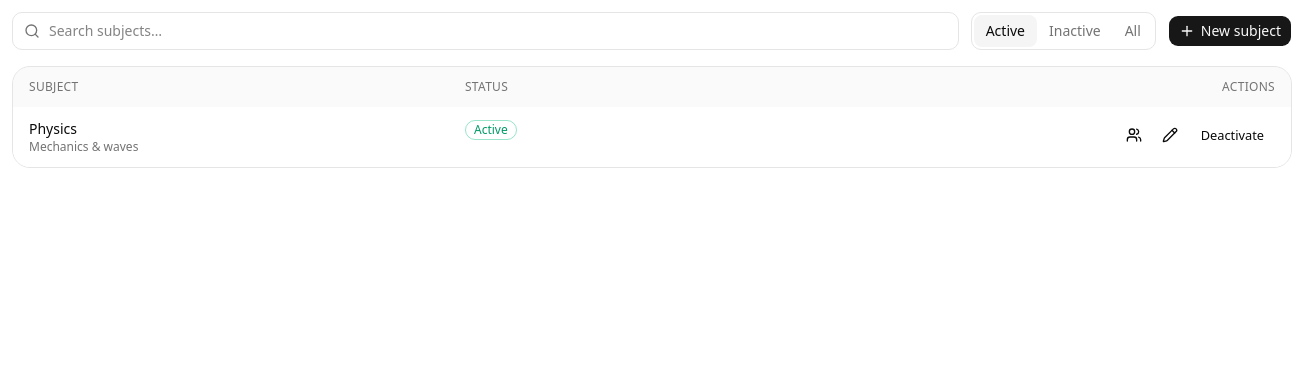
it: SubjectManager — create › gates the submit until name has >= 2 chars
Click the button "New subject" at (1230, 31), box [1168,15,1292,47]
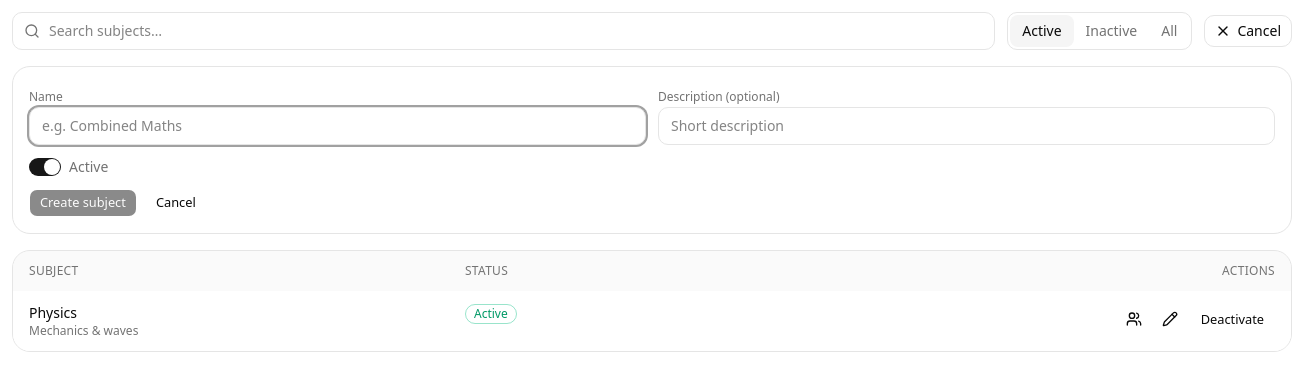
Result: the button "Create subject" is disabled at [29,189,137,217]
Type "C" into the field labelled "Name" at (338, 126), box [29,107,646,145]
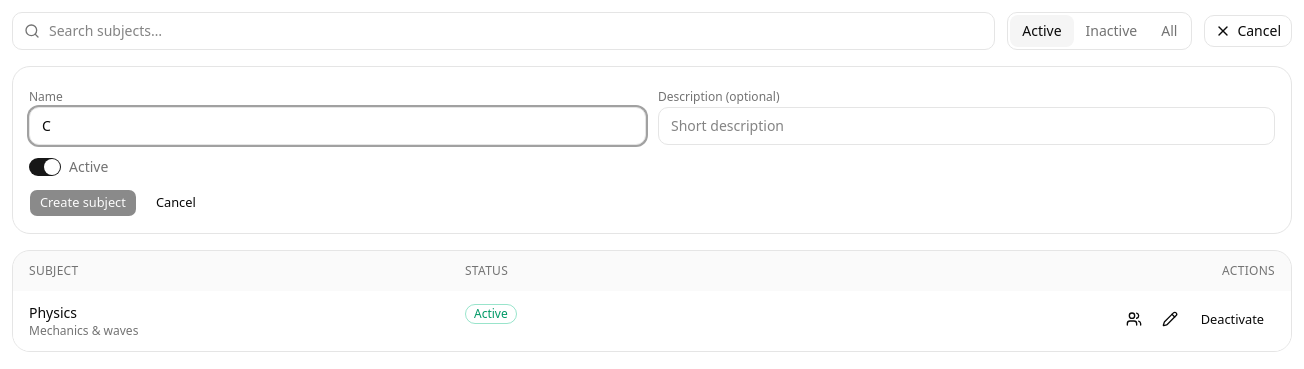
Result: the button "Create subject" is disabled at [29,189,137,217]
Type "hemistry" into the field labelled "Name" at (338, 126), box [29,107,646,145]
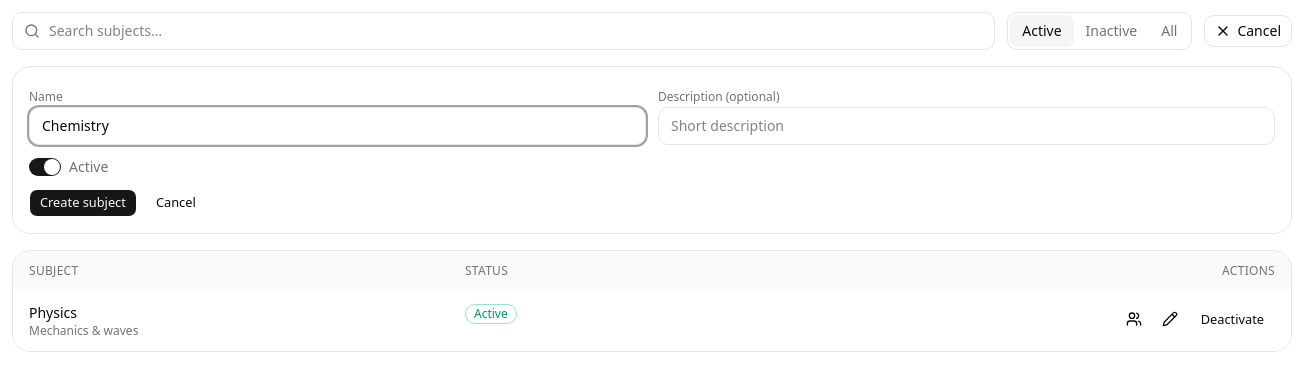
Result: the button "Create subject" is enabled at [29,189,137,217]
